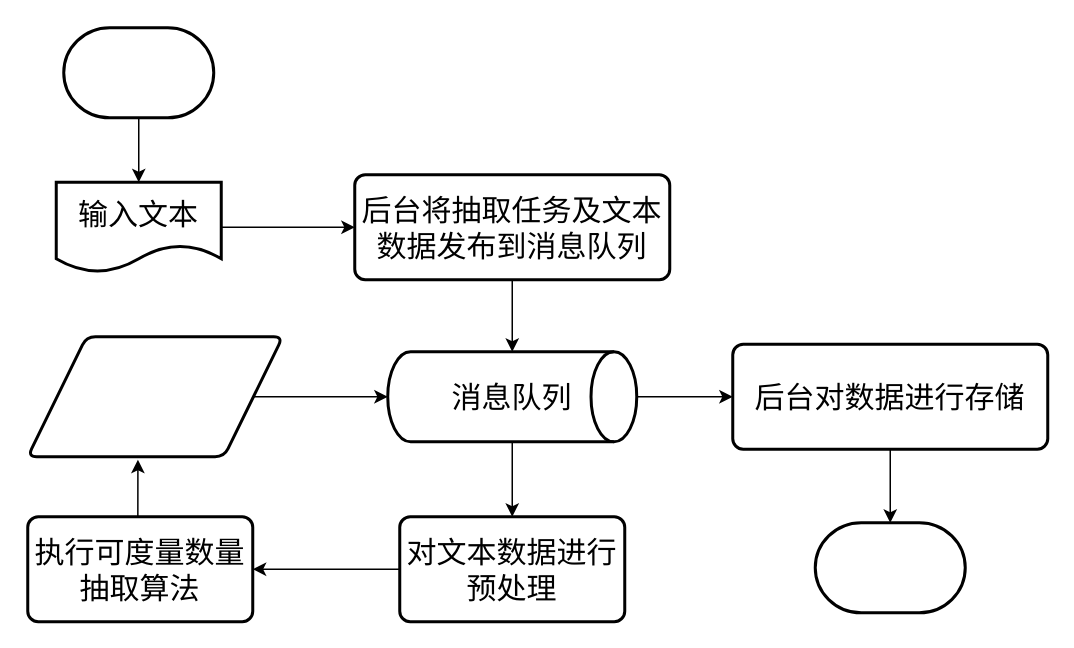
This 1074x648 diagram has some shape labels left out. Each missing label, with the box of its shape:
可度量数量 信息抽取结果: (26, 334, 284, 458)
开始: (62, 26, 214, 118)
结束: (813, 520, 966, 614)
